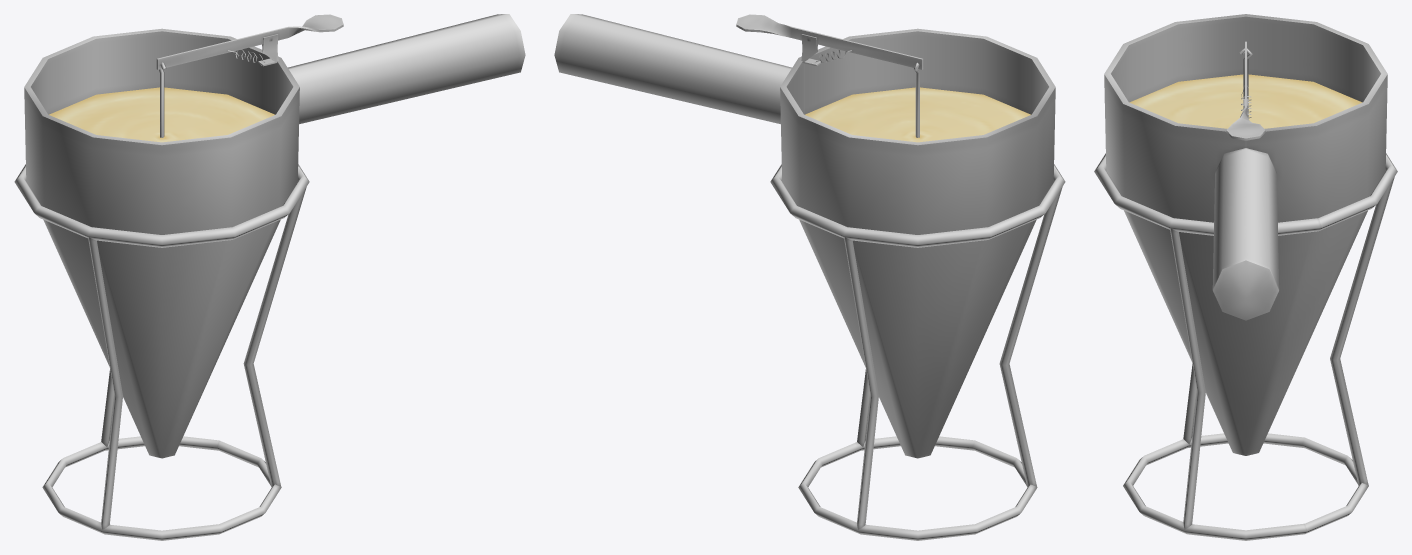
File: jsf_Depositor.fbx
The picture shows the model from 3 angles, left to right: view 1: azimuth 30°, elevation 25°; view 2: azimuth 150°, elevation 25°; view 3: azimuth 270°, elevation 25°; orthographic projection. The views are drawn at different scales.
Visible parts, largest first — view 1: Body, Stand; view 2: Body, Stand; view 3: Body, Stand.
Part boxes in pixels (x1,y1,x2,y2): Body: [24, 14, 525, 458]; Stand: [14, 164, 309, 540]; Body: [554, 14, 1055, 458]; Stand: [770, 164, 1065, 540]; Body: [1104, 14, 1387, 455]; Stand: [1094, 153, 1397, 540].
Bounding box in the file's own units: 26.69 × 22.95 × 14.13.
